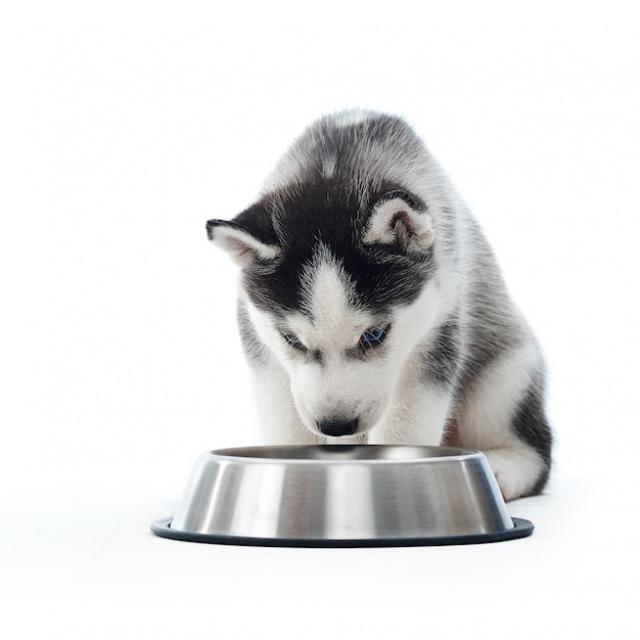Dog: (206, 106, 553, 504)
